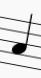A: (9, 11, 34, 74)
